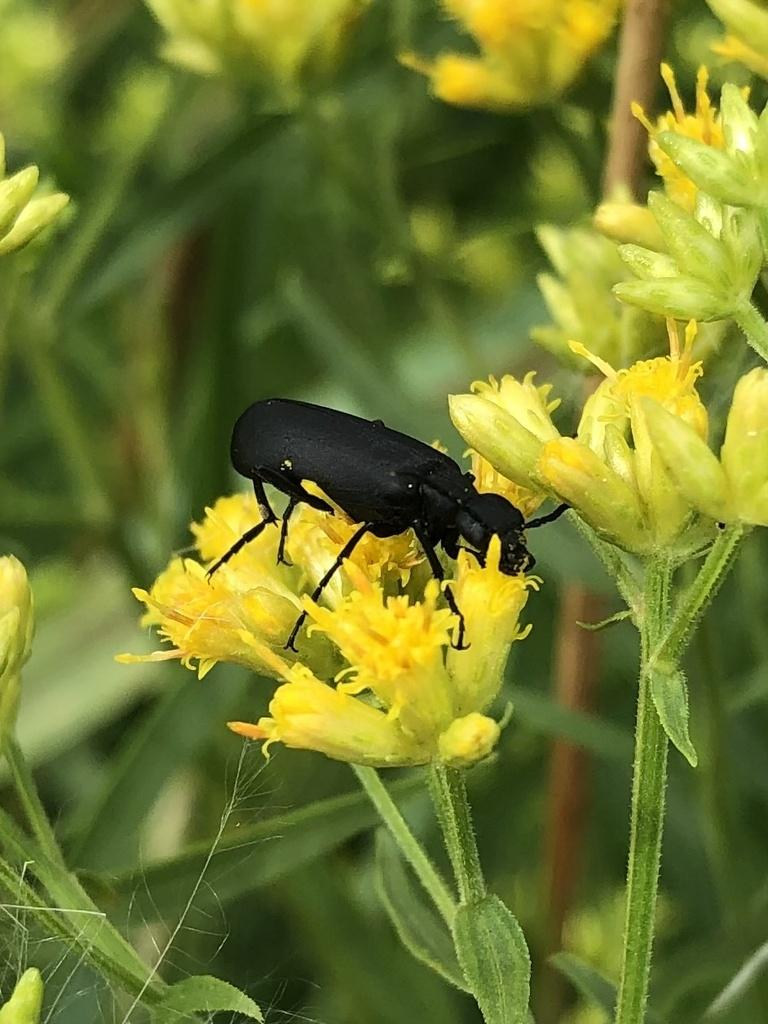blister_beetle: (107, 315, 632, 709)
